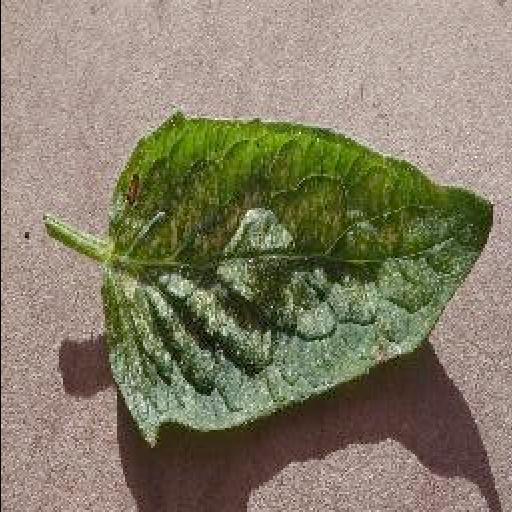disease_tomato: (102, 110, 498, 448)
